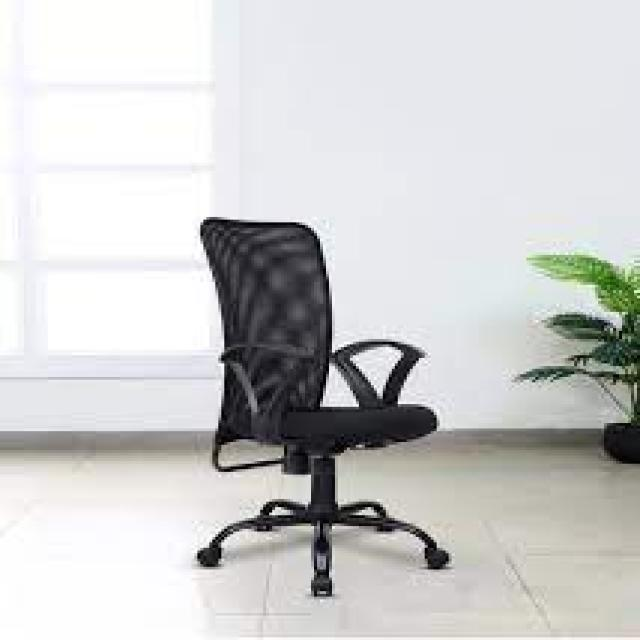chair: (91, 143, 495, 634)
